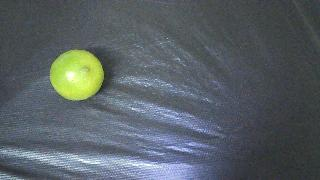LOCAL: (50, 50, 104, 100)
